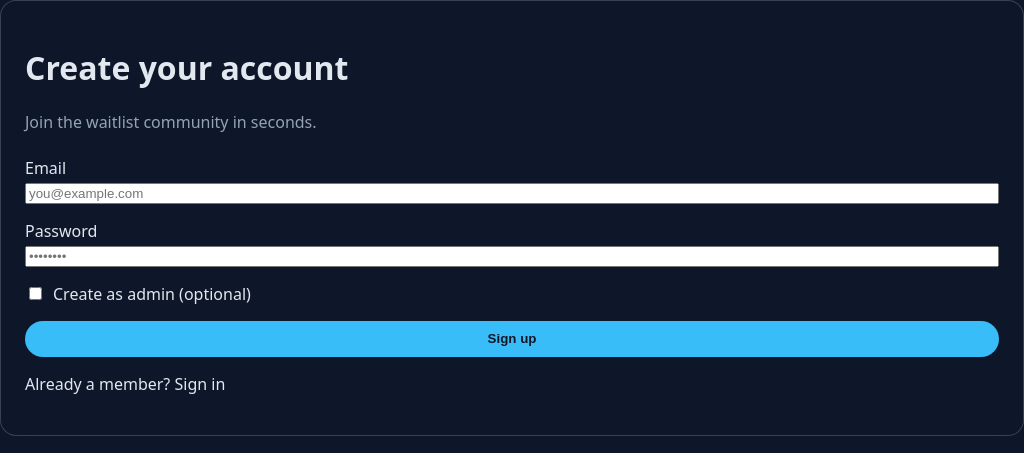
Test: AuthPanel › performs signup then redirects
Step 1. Type "new@example.com" into the field labelled "Email" → (512, 193), box [25, 183, 999, 204]
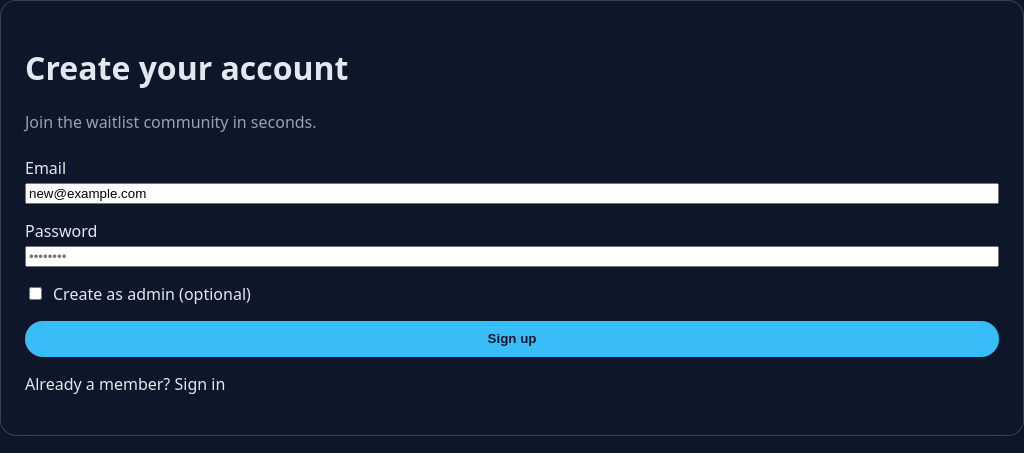
Step 2. Type "NewPass123!" into the password field labelled "Password" → (512, 256), box [25, 246, 999, 267]
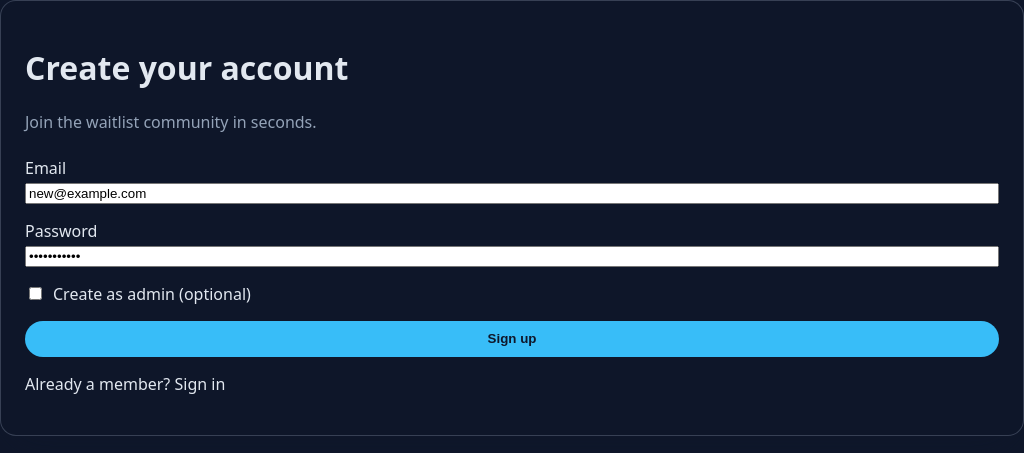
Step 3. Click the button "Sign up" → (512, 339), box [25, 321, 999, 357]
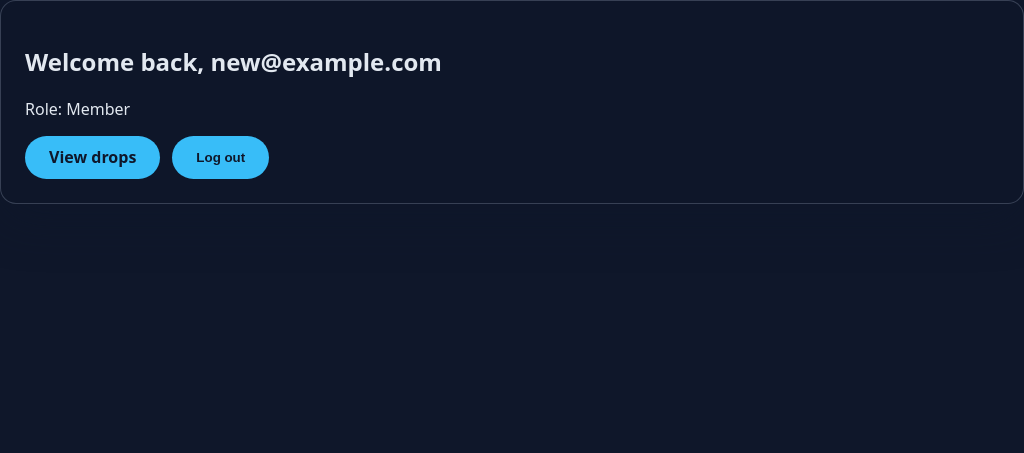
Now the heading "Welcome back, new@example.com" is shown, box [25, 45, 442, 78]
